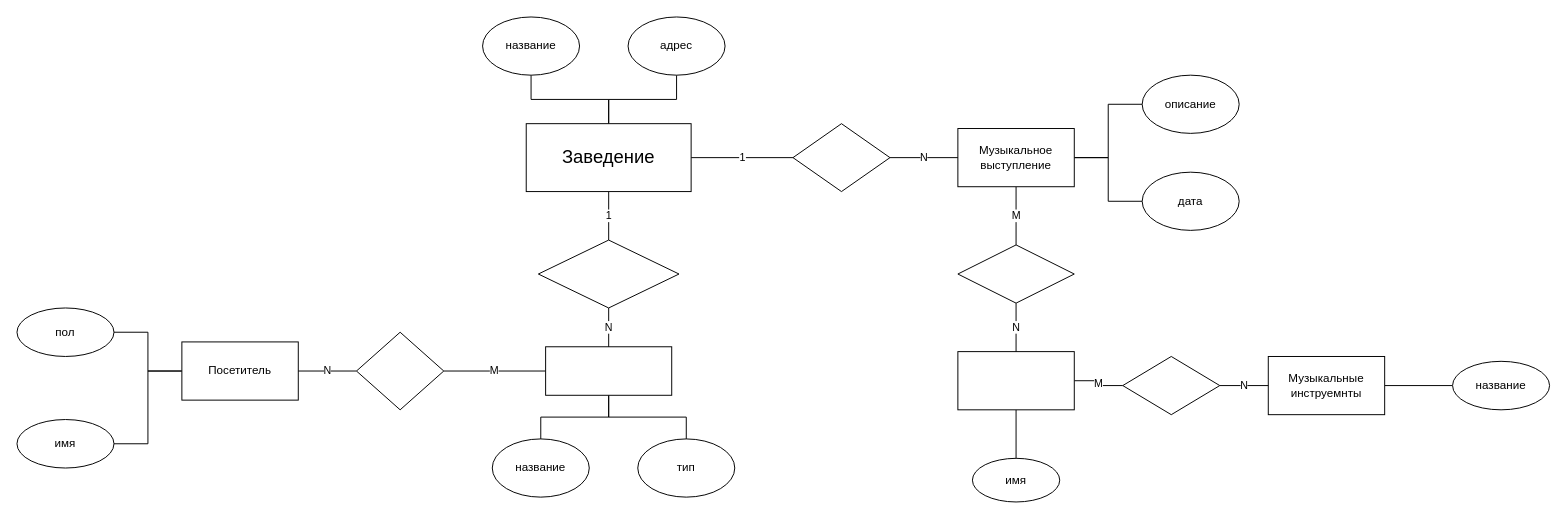
Some shapes in this 1567 by 519 pixel diagram are drawn without their labels. The box of each missing label's shape, as (x1, y1, x2, y2) in pixels:
исполняют: (957, 244, 1074, 303)
используют: (1122, 356, 1220, 415)
Музыкант: (957, 351, 1074, 410)
проводит: (537, 239, 679, 308)
содержит: (792, 123, 890, 192)
Танец: (545, 346, 672, 395)
учавствует: (356, 331, 444, 410)
